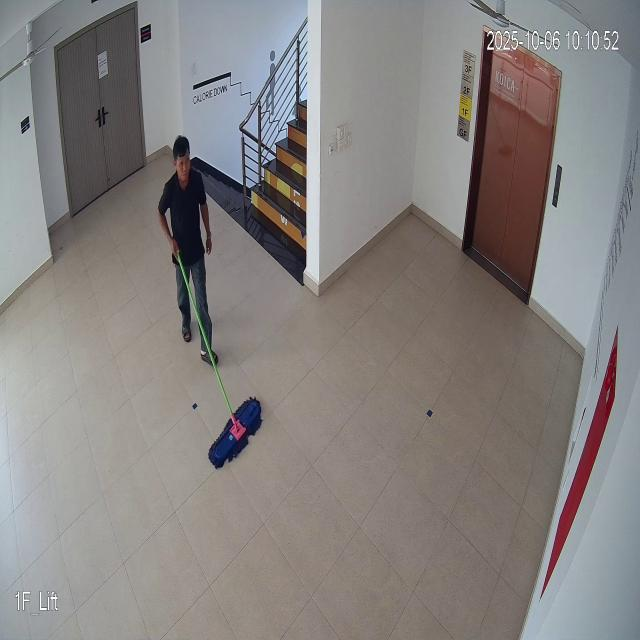face: (172, 132, 196, 186)
